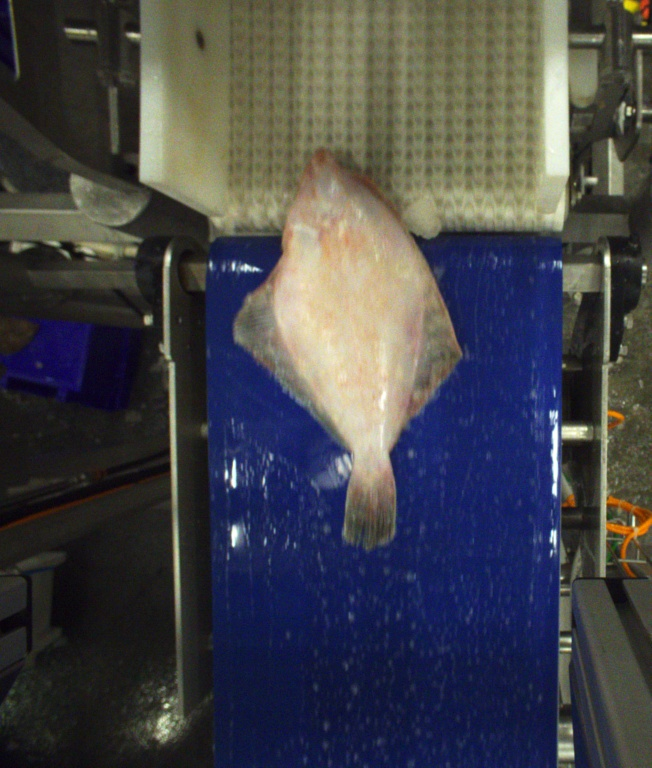PLE: (235, 150, 460, 546)
